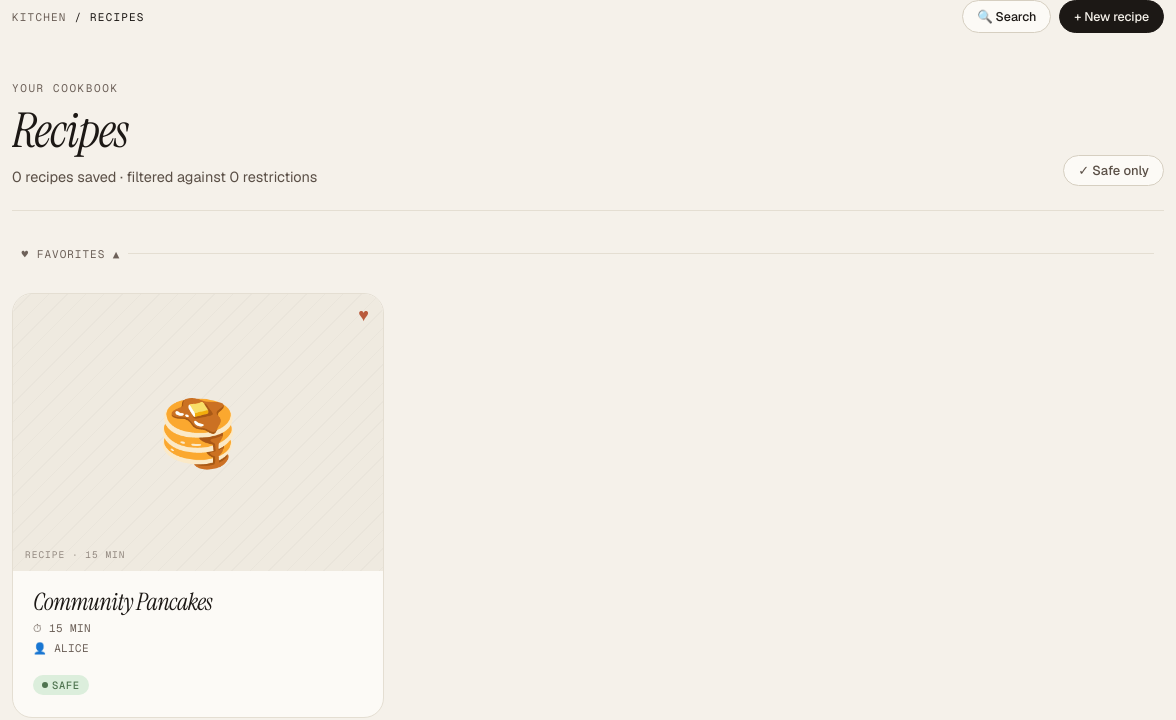
Test: RecipesScreen – favorites section › opens the favorite recipe detail view when a favorite card is clicked
Click the text "Community Pancakes": (122, 602) [33,586,212,618]
(page scrolled)
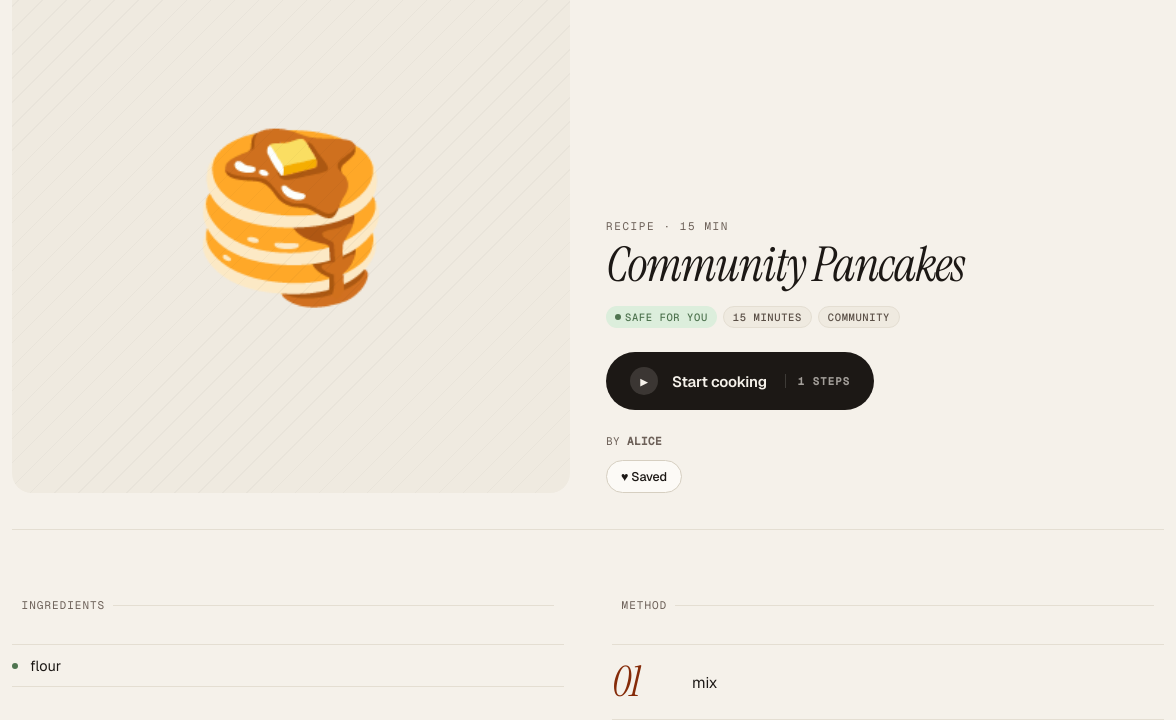
Expected: the text "Ingredients" is shown, [22,598,105,612]
